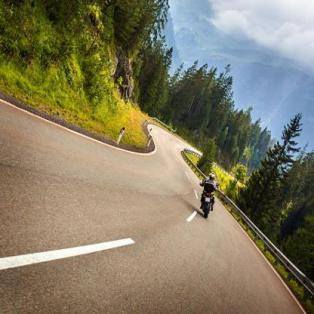Motocicleta: (196, 172, 218, 227)
